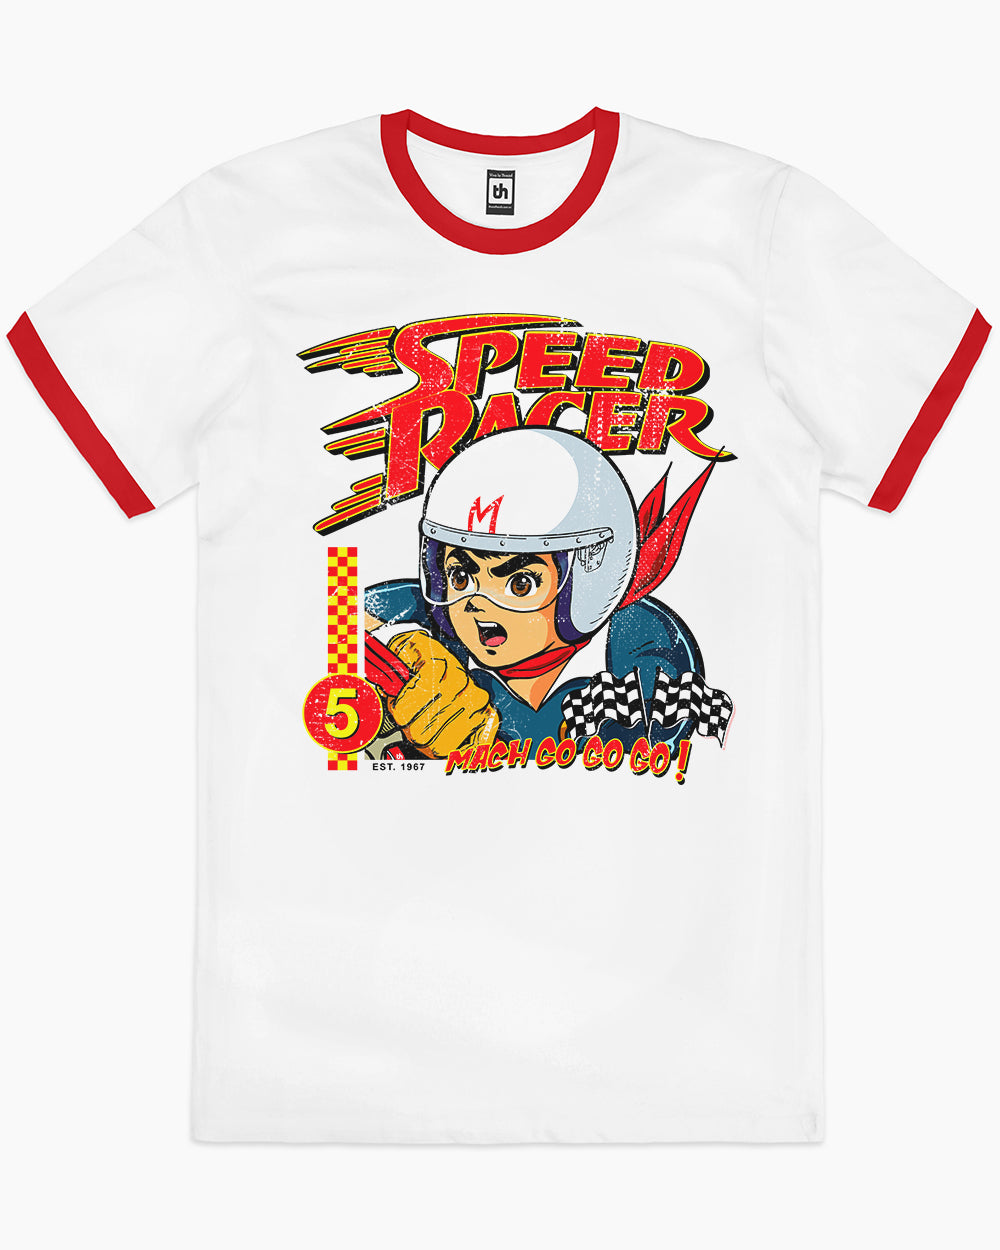design: (292, 307, 744, 789)
